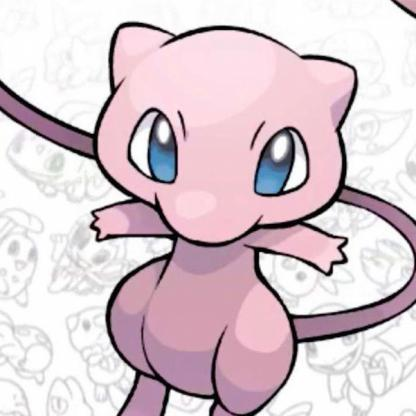Mew: (1, 7, 416, 416)
